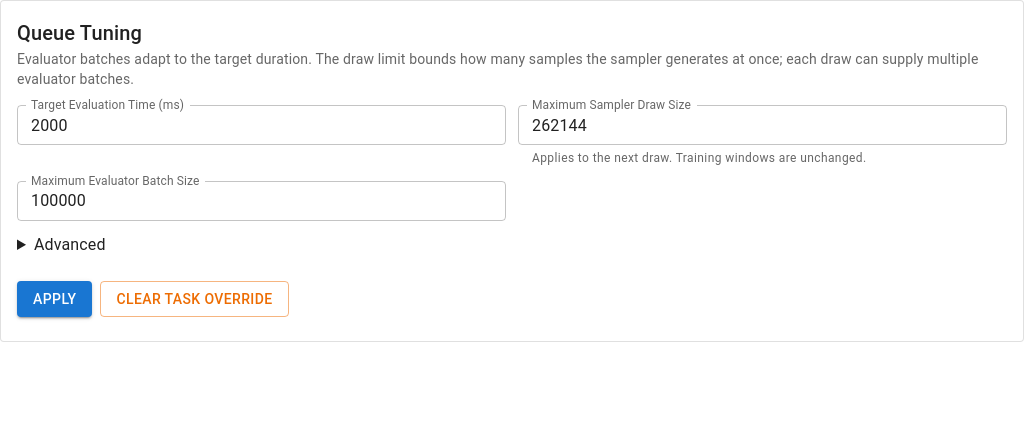
queue tuning › rejects a nonpositive evaluation target
Replace the text in the field labelled "Target Evaluation Time (ms)" with "0": x=262, y=125 [17, 105, 506, 145]
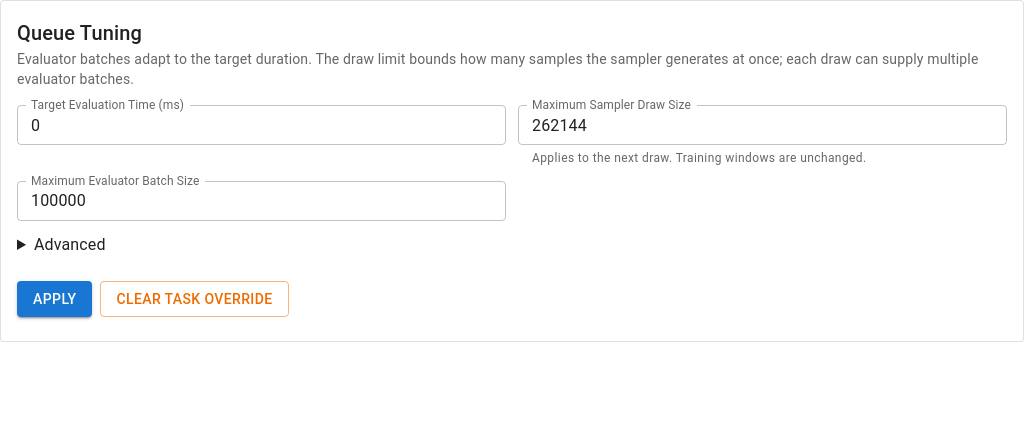
Click the button "Apply": x=55, y=299 [17, 281, 92, 317]
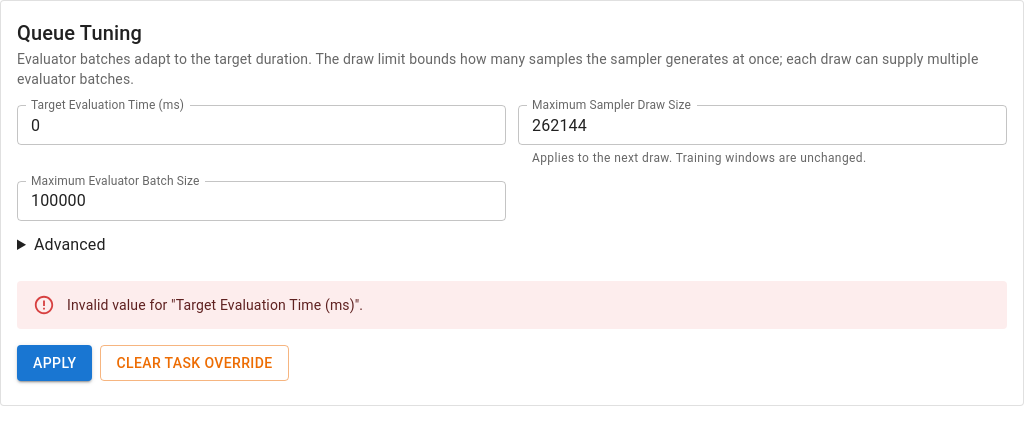
Now the message shows "Invalid value", box [67, 297, 363, 313]
